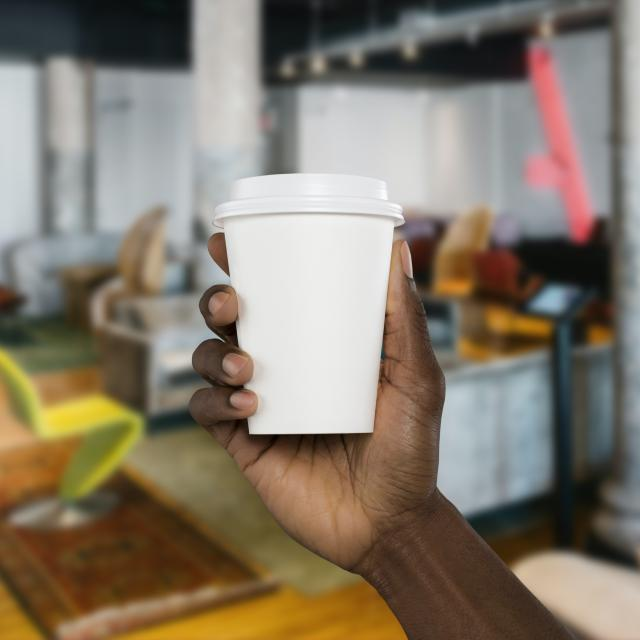cup: (212, 172, 406, 436)
